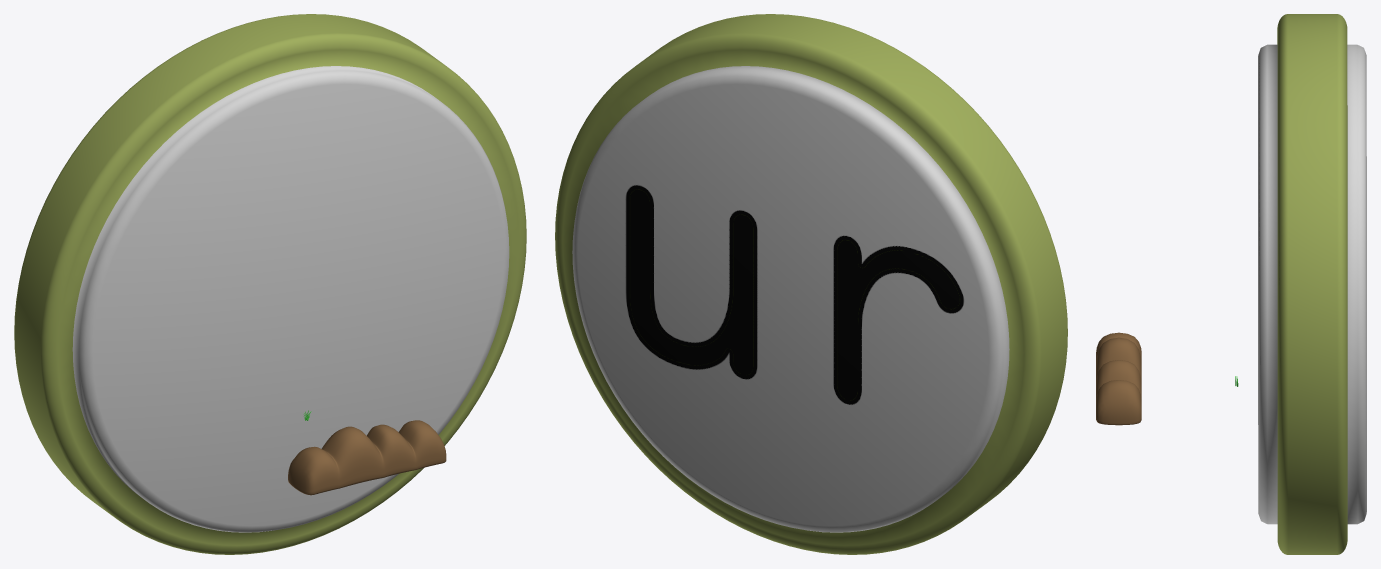
The model's file is turf3.gltf.
3 renders of one model, left to right at view 1: azimuth 30°, elevation 25°; view 2: azimuth 150°, elevation 25°; view 3: azimuth 270°, elevation 25°, orthographic. The views are drawn at different scales.
Parts seen in each view (by area): view 1: coin, Cube; view 2: coin; view 3: coin, Cube.
Part boxes in pixels (x1,y1,x2,y2): coin: [14, 14, 526, 554]; Cube: [288, 420, 446, 495]; coin: [555, 14, 1067, 554]; coin: [1258, 14, 1366, 554]; Cube: [1096, 332, 1141, 425].
Size of the model in its own units: 2.56 by 2.56 by 1.28.
5 materials, 1 textured.
